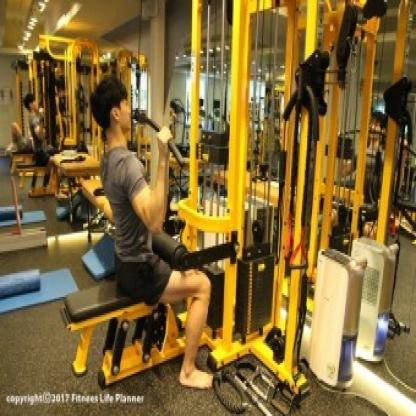Lat Pull Down: (52, 0, 333, 416)
